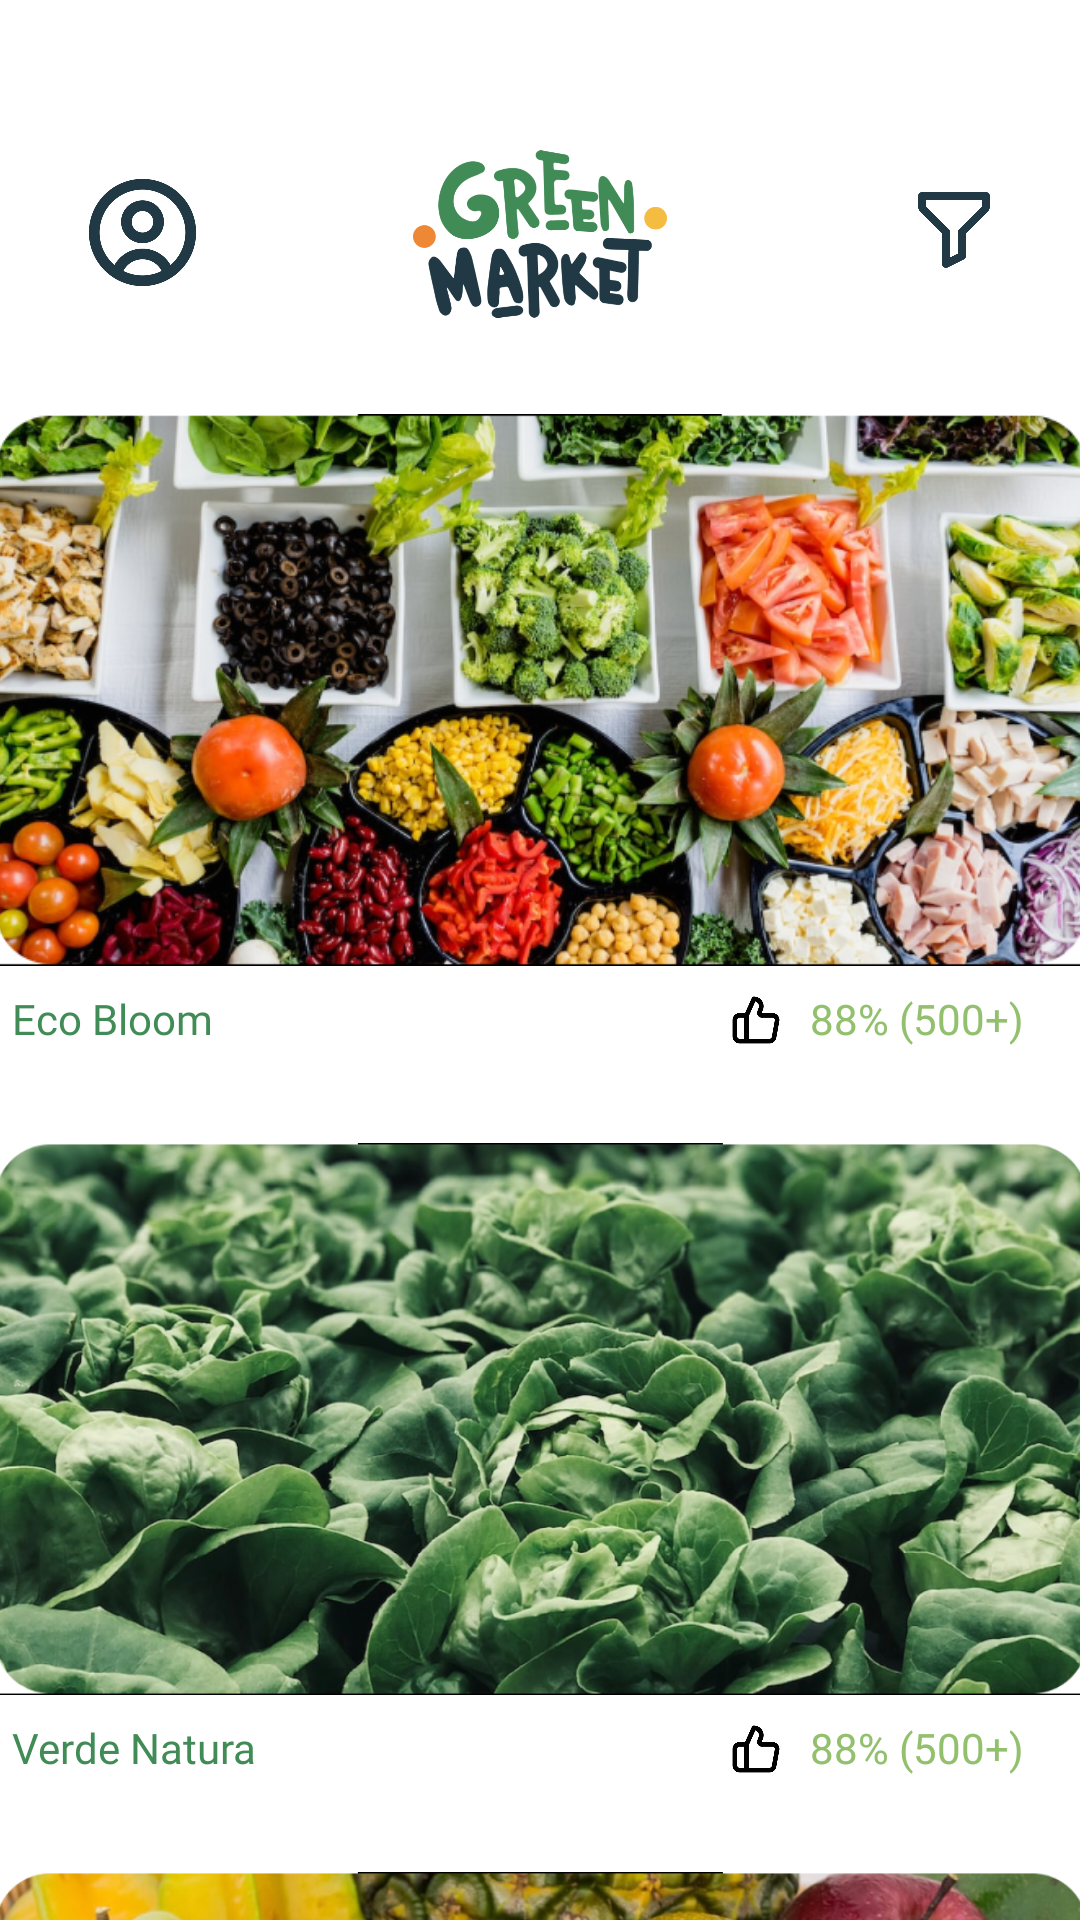

Screen size 1080*1920. Icon name, then its center in pixels as [x,y]:
filter: [954,230]
like: [756,1020], [756,1749]
user circle: [142,232]
